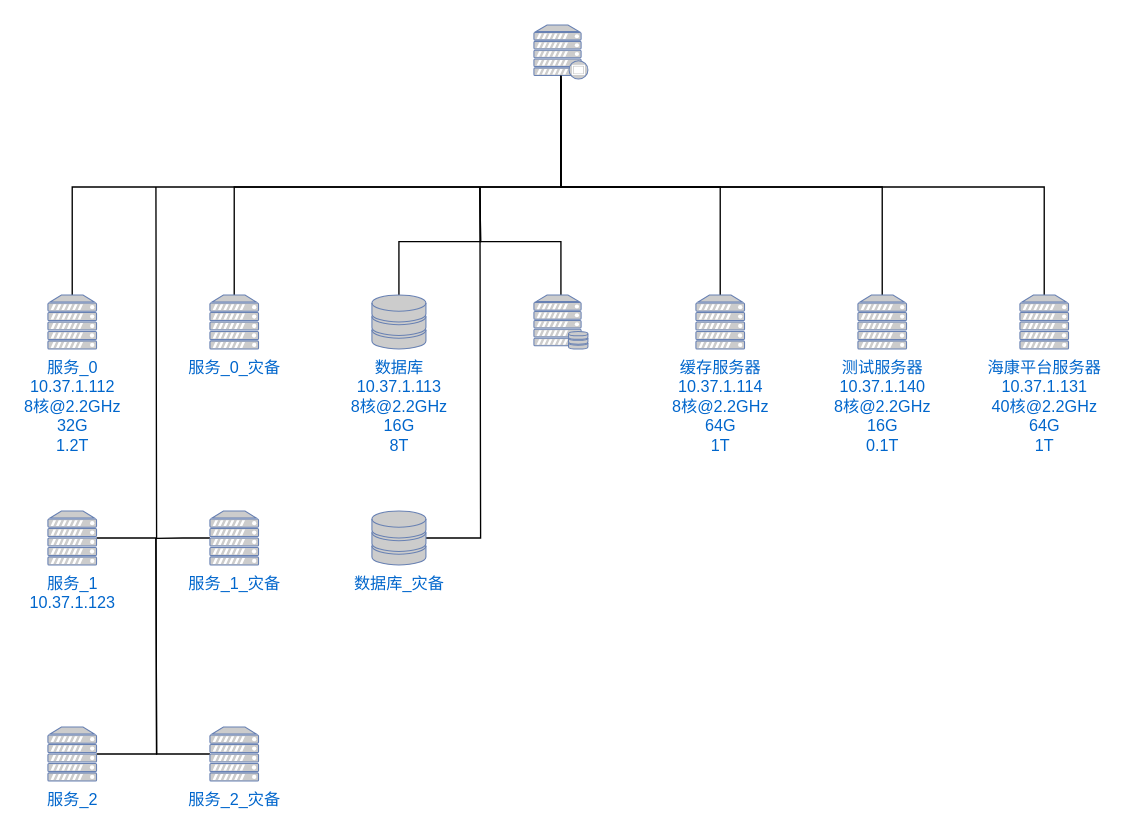
This 1123x832 diagram has some shape labels left out. Each missing label, with the box of its shape:
文件服务器 10.37.1.130 8核@2.2GHz 16G 8T: (532, 293, 589, 350)
负载均衡 10.37.1.111 8核@2.2GHz 32G 1T: (532, 23, 589, 80)
